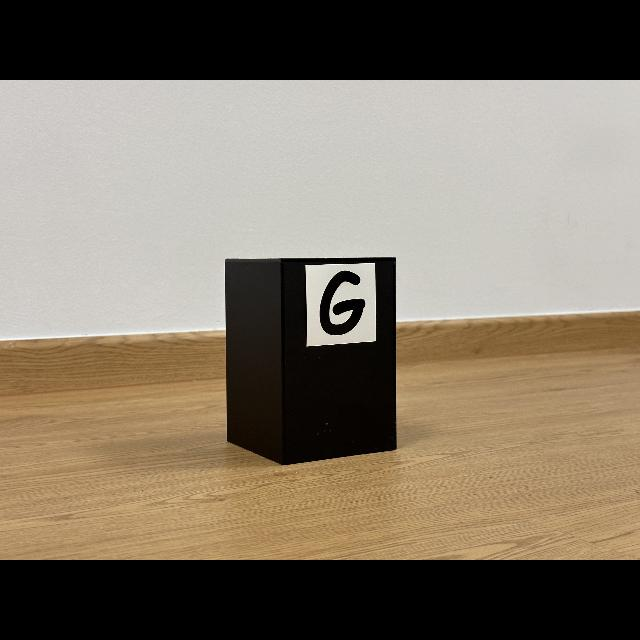G: (320, 271, 365, 335)
